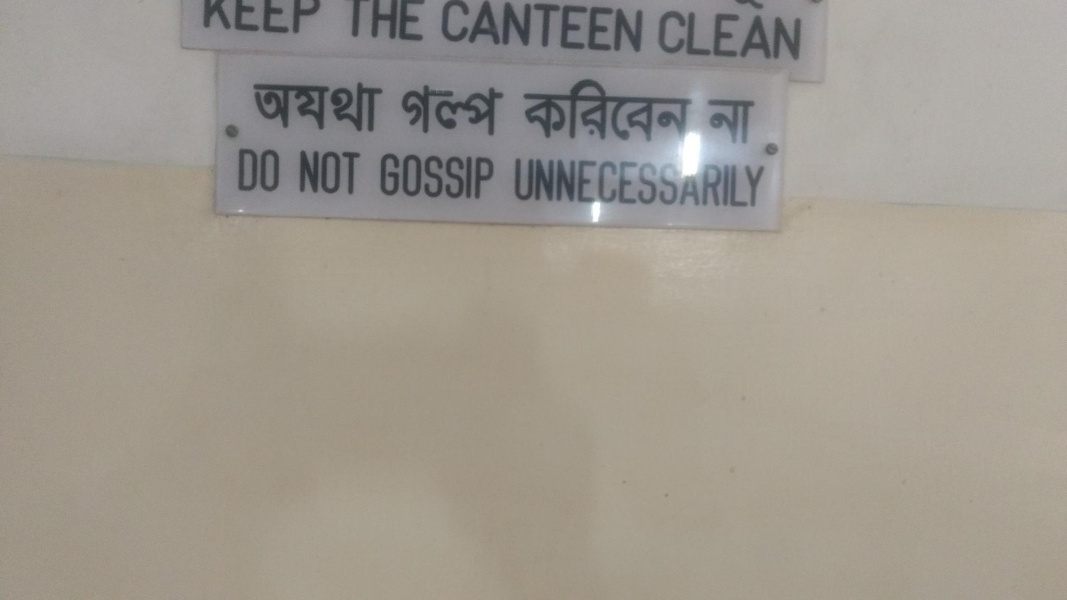text: (529, 73, 544, 143), (545, 73, 560, 143), (561, 73, 576, 143), (577, 73, 592, 143), (593, 73, 608, 143), (609, 73, 624, 143), (625, 73, 640, 143), (641, 73, 656, 143), (657, 73, 672, 143), (673, 73, 688, 143), (257, 76, 272, 135), (273, 76, 288, 135), (289, 76, 304, 135), (305, 76, 320, 135), (321, 76, 336, 135), (337, 76, 352, 135), (353, 76, 368, 135), (417, 80, 432, 137), (433, 80, 448, 137), (449, 80, 464, 137), (465, 80, 480, 137), (481, 80, 496, 137), (369, 76, 383, 135), (449, 1, 464, 55), (465, 1, 480, 55), (481, 1, 496, 55), (497, 1, 512, 55), (513, 1, 528, 55), (529, 1, 544, 55), (545, 1, 560, 55), (561, 1, 576, 55), (577, 1, 592, 55), (593, 1, 608, 55), (609, 1, 624, 55), (625, 1, 640, 55), (305, 147, 320, 200), (321, 147, 336, 200), (337, 147, 352, 200), (385, 149, 400, 202), (401, 149, 416, 202), (417, 149, 432, 202), (433, 149, 448, 202), (449, 149, 464, 202), (465, 149, 480, 202), (673, 10, 688, 61), (689, 10, 704, 61), (705, 10, 720, 61), (721, 10, 736, 61), (737, 10, 752, 61), (753, 10, 768, 61), (769, 10, 784, 61), (785, 10, 800, 61), (529, 157, 544, 207), (545, 157, 560, 207), (561, 157, 576, 207), (577, 157, 592, 207), (593, 157, 608, 207), (609, 157, 624, 207), (625, 157, 640, 207), (641, 157, 656, 207), (657, 157, 672, 207), (673, 157, 688, 207), (689, 157, 704, 207), (705, 157, 720, 207), (721, 157, 736, 207), (737, 157, 752, 207), (481, 149, 495, 202), (241, 148, 256, 196), (257, 148, 272, 196), (404, 80, 416, 137), (721, 101, 736, 144), (737, 101, 752, 144), (353, 1, 368, 43), (369, 1, 384, 43), (385, 1, 400, 43), (401, 1, 416, 43), (417, 1, 432, 43), (516, 157, 528, 207), (497, 80, 507, 137), (661, 10, 672, 61), (305, 3, 321, 37), (353, 147, 363, 200), (209, 3, 224, 37), (225, 3, 240, 37), (241, 3, 256, 37), (257, 3, 272, 37), (273, 3, 288, 37), (289, 3, 304, 37), (753, 157, 763, 207), (521, 73, 528, 143), (273, 148, 283, 196), (641, 1, 648, 55), (442, 1, 448, 55), (298, 147, 304, 200), (714, 101, 720, 144), (252, 76, 256, 135), (203, 3, 208, 37), (433, 1, 436, 43), (801, 10, 803, 61), (238, 148, 240, 196), (753, 101, 755, 144), (689, 73, 690, 143), (383, 149, 384, 202)
